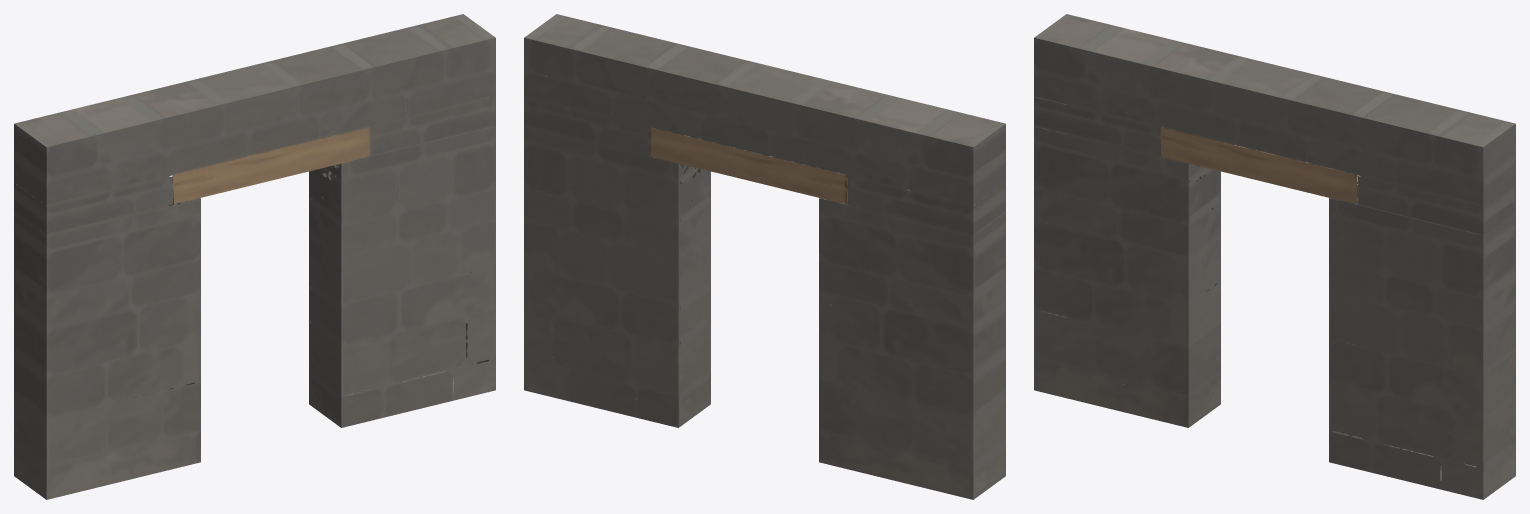
3 renders of one model, left to right at view 1: azimuth 30°, elevation 25°; view 2: azimuth 150°, elevation 25°; view 3: azimuth 330°, elevation 25°, orthographic.
Visible parts, largest first — view 1: S09_Baked; view 2: S09_Baked; view 3: S09_Baked.
Boxes of the visible parts, left/top/right/bottom form: S09_Baked: left=14, top=14, right=495, bottom=499; S09_Baked: left=524, top=14, right=1005, bottom=499; S09_Baked: left=1034, top=14, right=1515, bottom=499.
Bounding box in the file's own units: 400 × 300 × 50.
